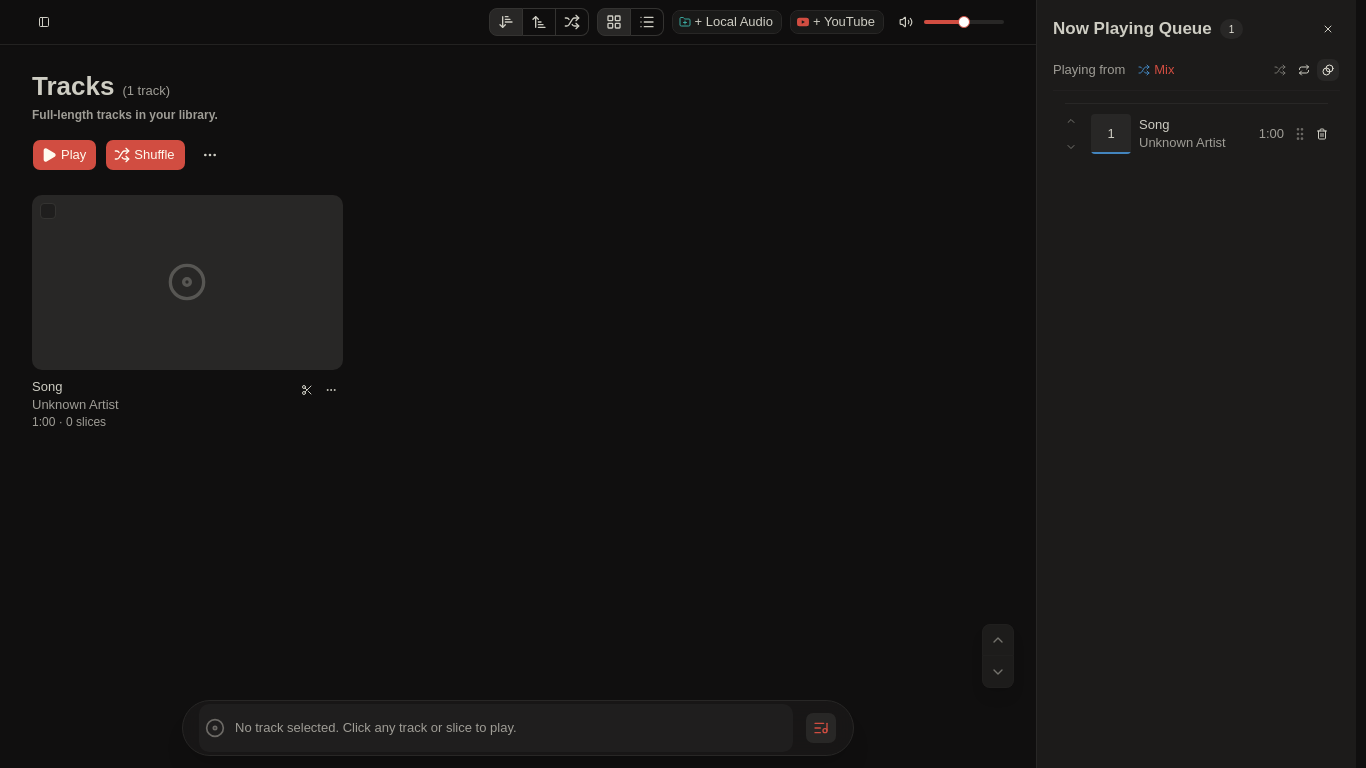
Test case: keeps a track queued and tells the user when the server won't delete it
Click the button named "More options for Song" at (331, 390), box [319,378,343,402]
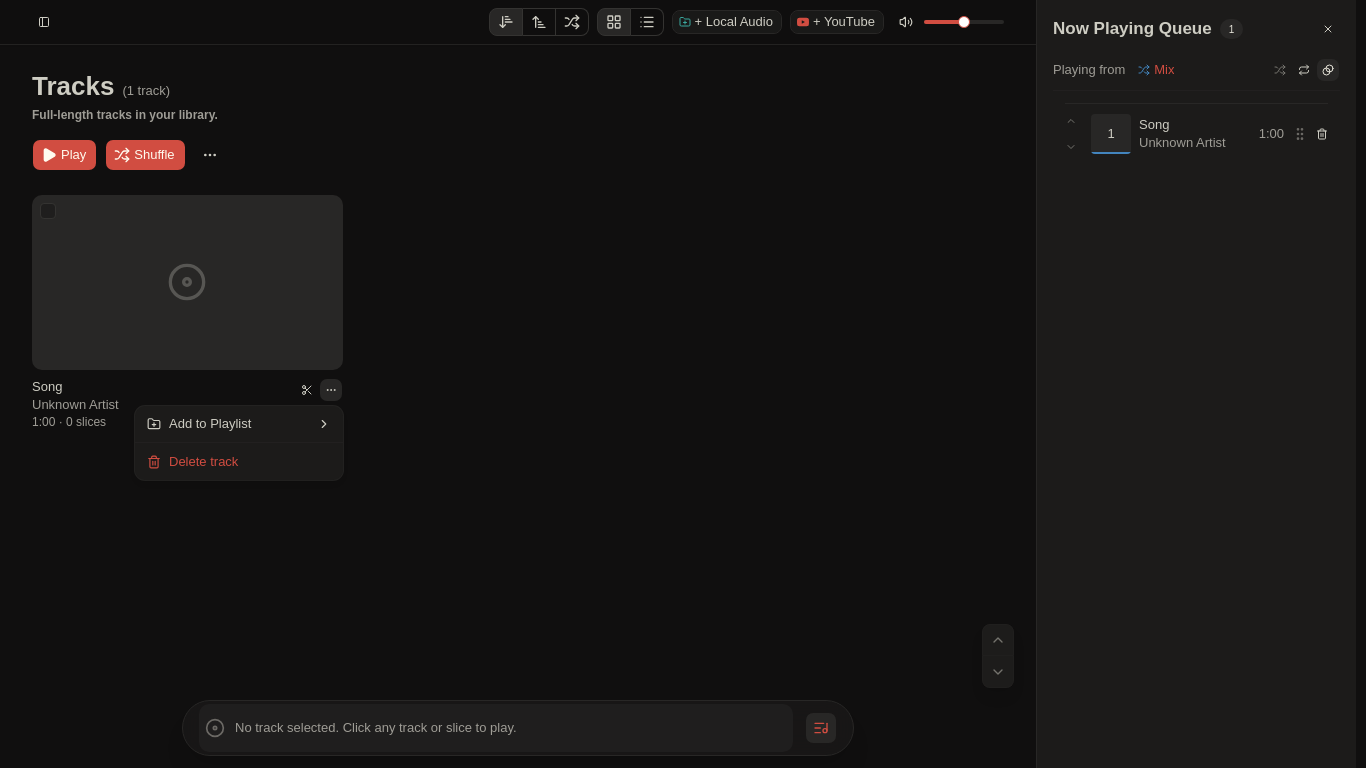
Click the menu item "Delete track" at (193, 462), box [147,454,238,469]
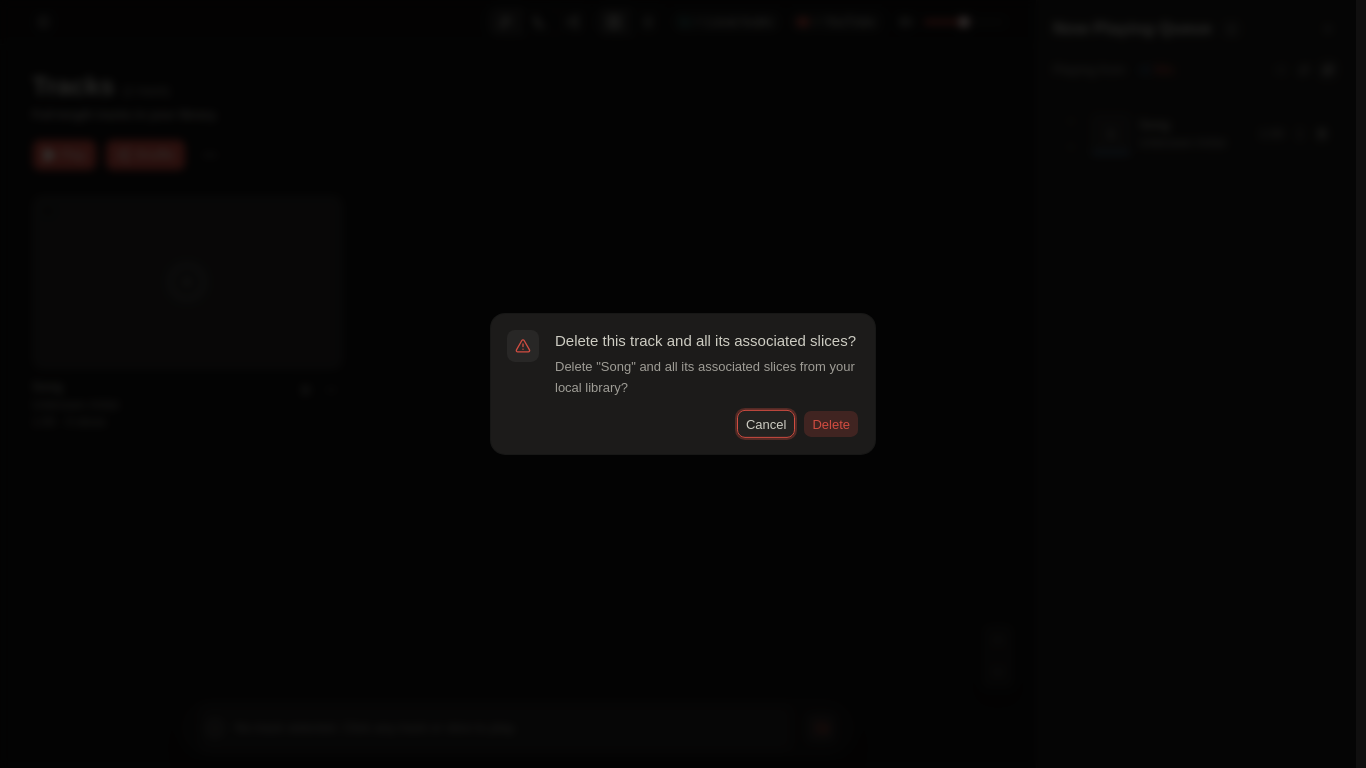
Click the button "Delete" at (831, 424), box [803,410,859,438]
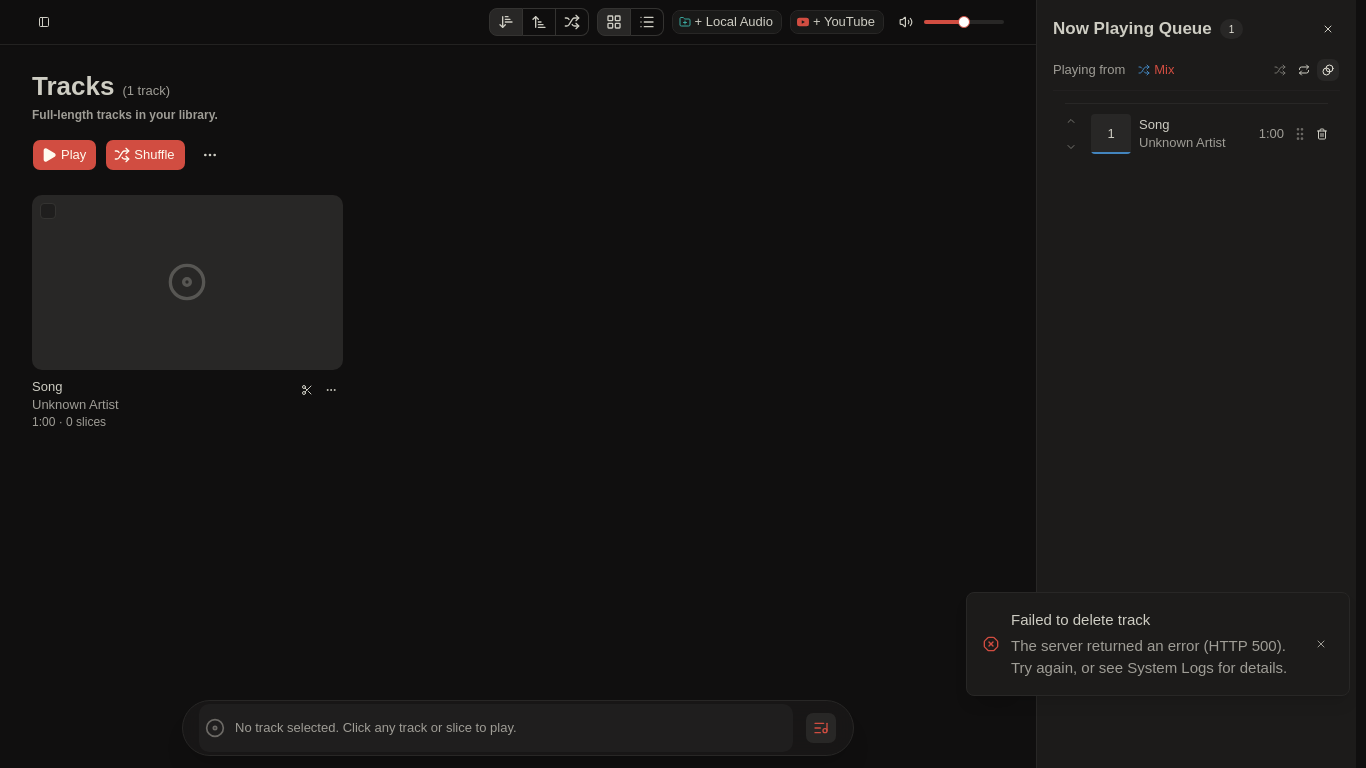
expect the dialog shows "Failed to delete track": met, box [1011,611,1150,628]
